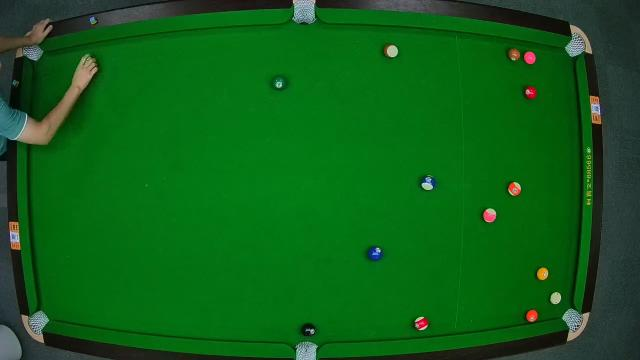bag1: (20, 40, 40, 61)
bag2: (292, 1, 316, 25)
bag3: (566, 35, 588, 55)
bag4: (28, 311, 48, 333)
bag5: (293, 340, 319, 360)
bag6: (562, 308, 582, 332)
ball0: (550, 293, 564, 305)
ball1: (537, 267, 549, 280)
ball10: (420, 176, 436, 192)
ball11: (413, 316, 431, 332)
ball12: (483, 209, 497, 223)
ball13: (506, 180, 522, 196)
ball15: (384, 44, 400, 58)
ball2: (368, 248, 382, 262)
ball3: (524, 85, 538, 99)
ball4: (524, 51, 536, 65)
ball5: (526, 308, 538, 322)
ball6: (271, 75, 289, 91)
ball7: (506, 47, 520, 61)
ball8: (301, 322, 317, 338)
